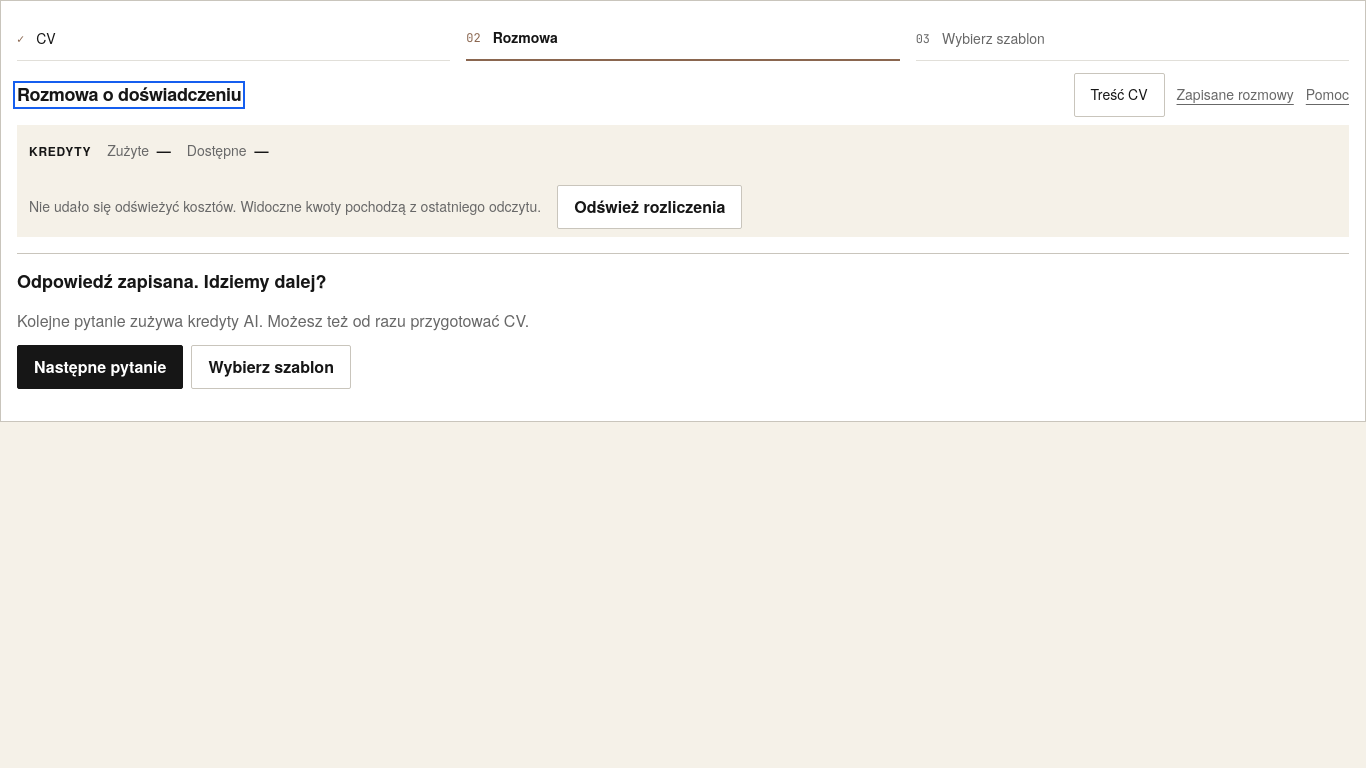
it: interview workflow › refreshes interrupted generation without retrying AI and preserves its error (read fails: true)
Click the button "Wybierz szablon" at x=271, y=367, box left=191, top=345, right=351, bottom=389
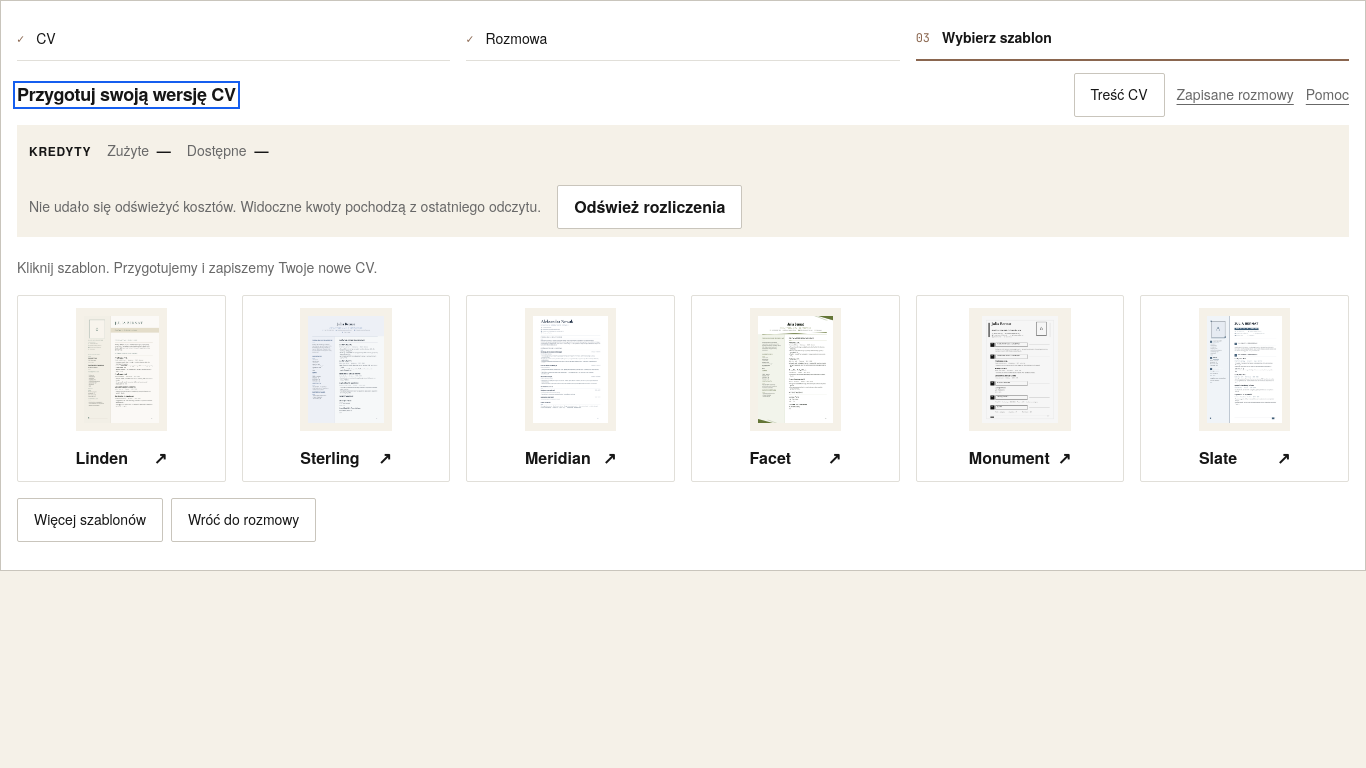
Click the button with aria-label "Utwórz CV · Linden" at x=121, y=388, box left=17, top=295, right=226, bottom=482
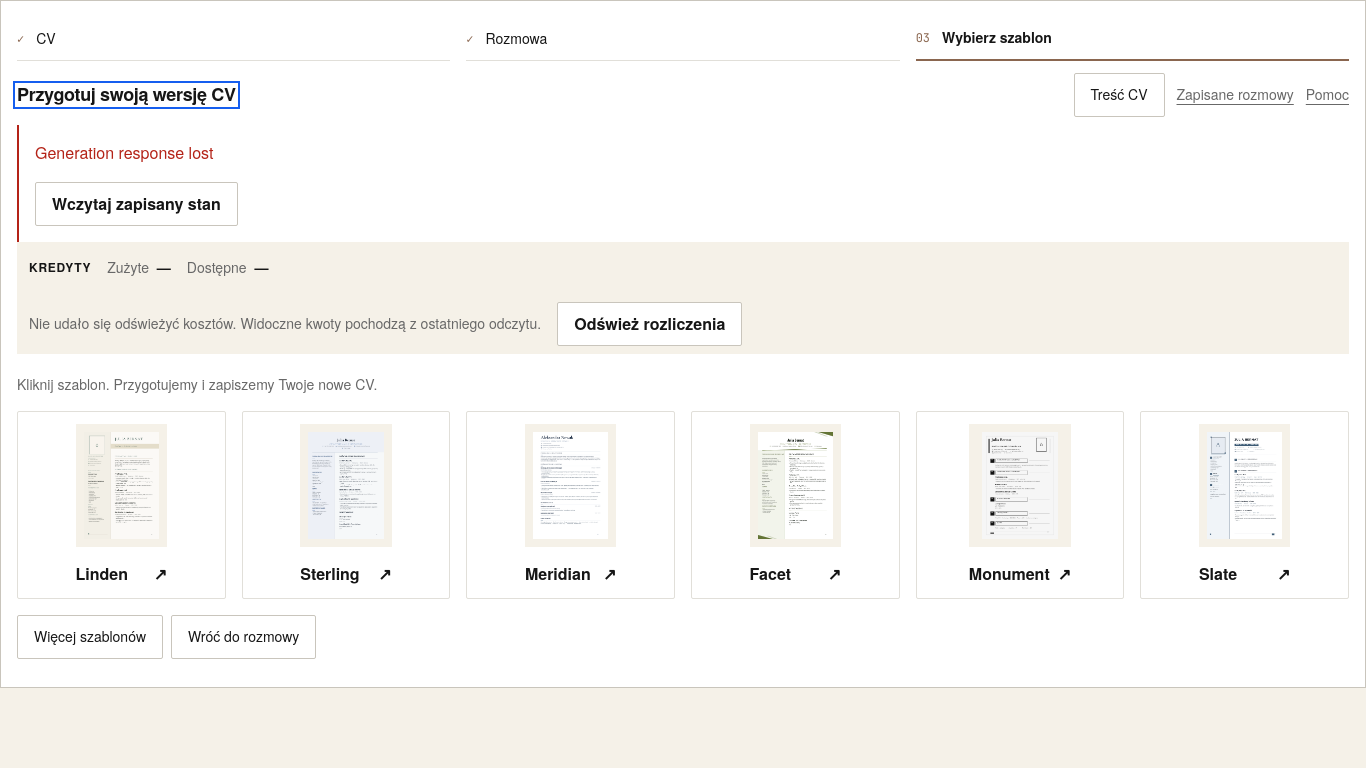
Expected: the message "Generation response lost Wczytaj zapisany stan" is shown, left=17, top=125, right=1349, bottom=242
